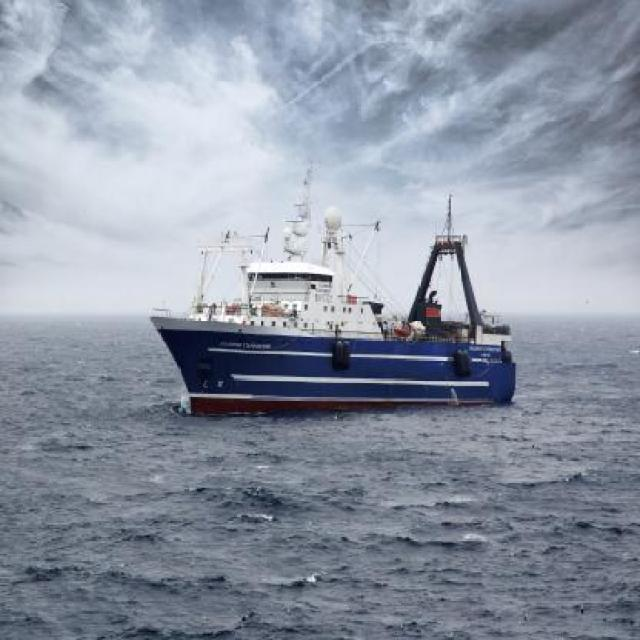fish-b: (147, 150, 526, 429)
